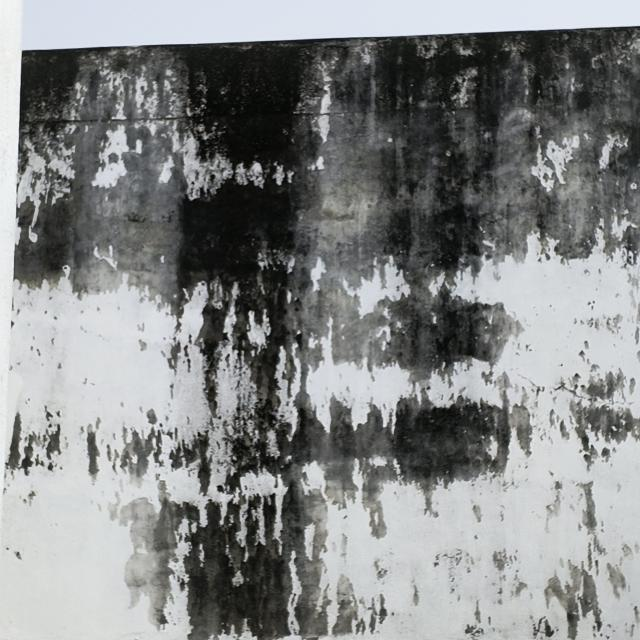stain_mould: (10, 22, 640, 640)
